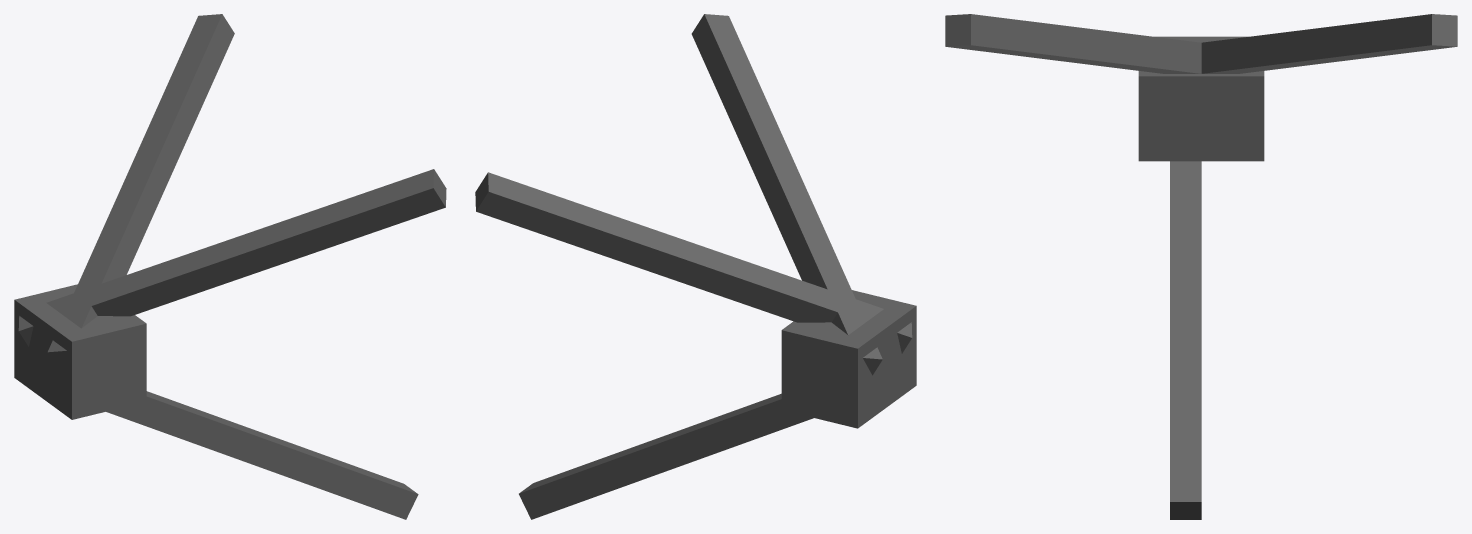
The model's file is turn_stile_main_1.obj.
The picture shows the model from 3 angles, left to right: view 1: azimuth 30°, elevation 25°; view 2: azimuth 150°, elevation 25°; view 3: azimuth 270°, elevation 25°; orthographic projection. The views are drawn at different scales.
Parts seen in each view (by area): view 1: backward_bar, forward_bar, rotation_block, upward_bar; view 2: forward_bar, backward_bar, rotation_block, upward_bar; view 3: rotation_block, upward_bar, backward_bar, forward_bar.
Part boxes in pixels (left/top/right/bottom): backward_bar: left=18, top=169, right=446, bottom=346; forward_bar: left=47, top=14, right=234, bottom=367; rotation_block: left=14, top=284, right=146, bottom=419; upward_bar: left=106, top=391, right=418, bottom=519; forward_bar: left=475, top=172, right=912, bottom=353; backward_bar: left=691, top=14, right=882, bottom=375; rotation_block: left=781, top=290, right=916, bottom=428; upward_bar: left=519, top=393, right=813, bottom=519; rotation_block: left=1138, top=36, right=1264, bottom=161; upward_bar: left=1170, top=161, right=1201, bottom=519; backward_bar: left=945, top=14, right=1201, bottom=73; forward_bar: left=1201, top=14, right=1457, bottom=73.
Bounding box in the file's own units: 0.931 × 1.04 × 1.02.
